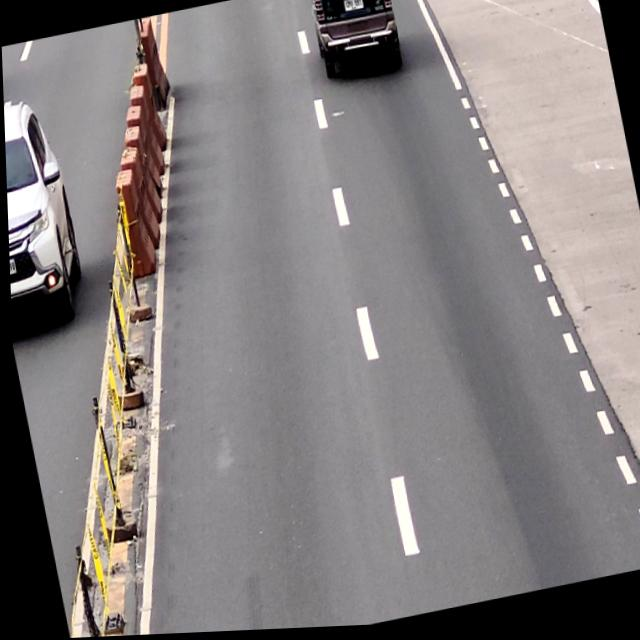Car: (306, 0, 405, 86)
License-Plate: (343, 0, 365, 16)
